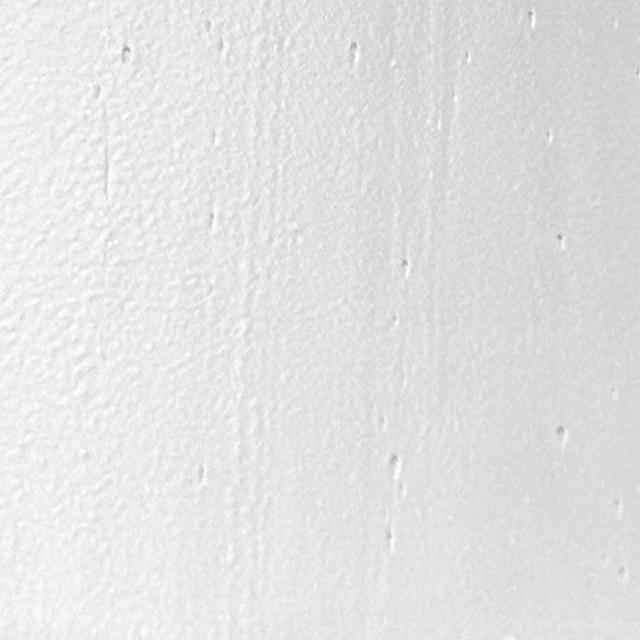pin holes: (386, 453, 406, 481), (345, 39, 364, 68), (116, 42, 136, 69), (396, 256, 416, 281), (382, 529, 400, 556), (552, 425, 570, 448), (524, 8, 541, 32), (205, 208, 222, 232), (553, 231, 570, 252), (90, 83, 105, 105), (616, 565, 630, 585), (543, 126, 556, 146), (612, 498, 624, 519), (463, 49, 476, 68), (390, 311, 403, 330), (202, 19, 215, 36)
